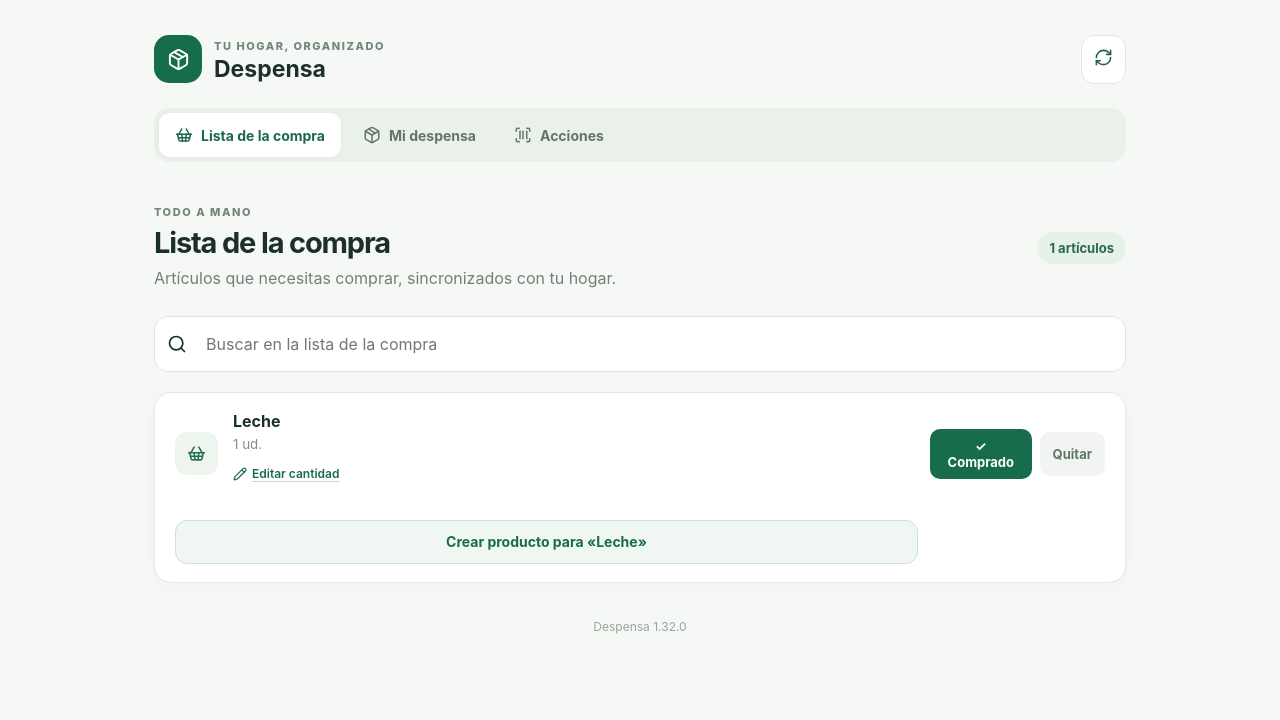
it: keeps creation in the pantry and removes archived-product actions
What coordinates should you click on to do the following:
click the button "Mi despensa"
I would click on:
 (420, 135)
Its box is [347,113,492,157].
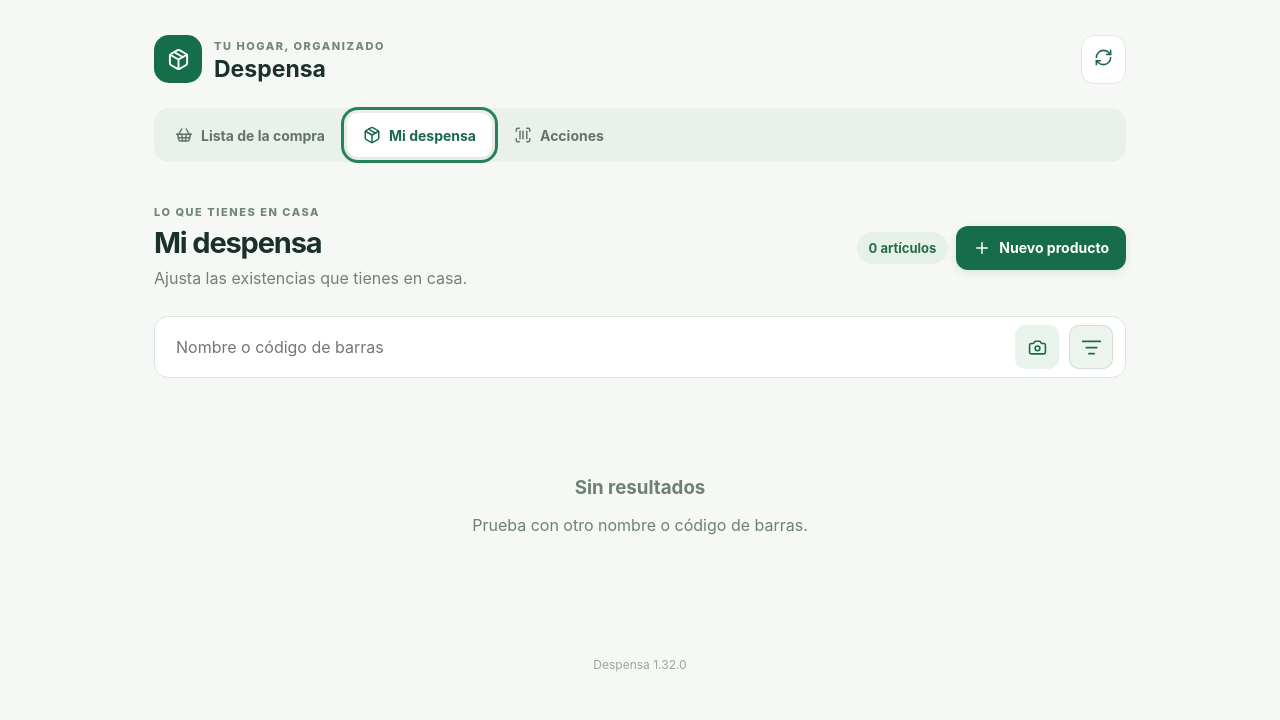
Expected: the button "Nuevo producto" is shown, [956,226,1126,270]
What coordinates should you click on to do the following:
click the button "Acciones"
I would click on:
 (559, 135)
Its box is [498,113,620,157].
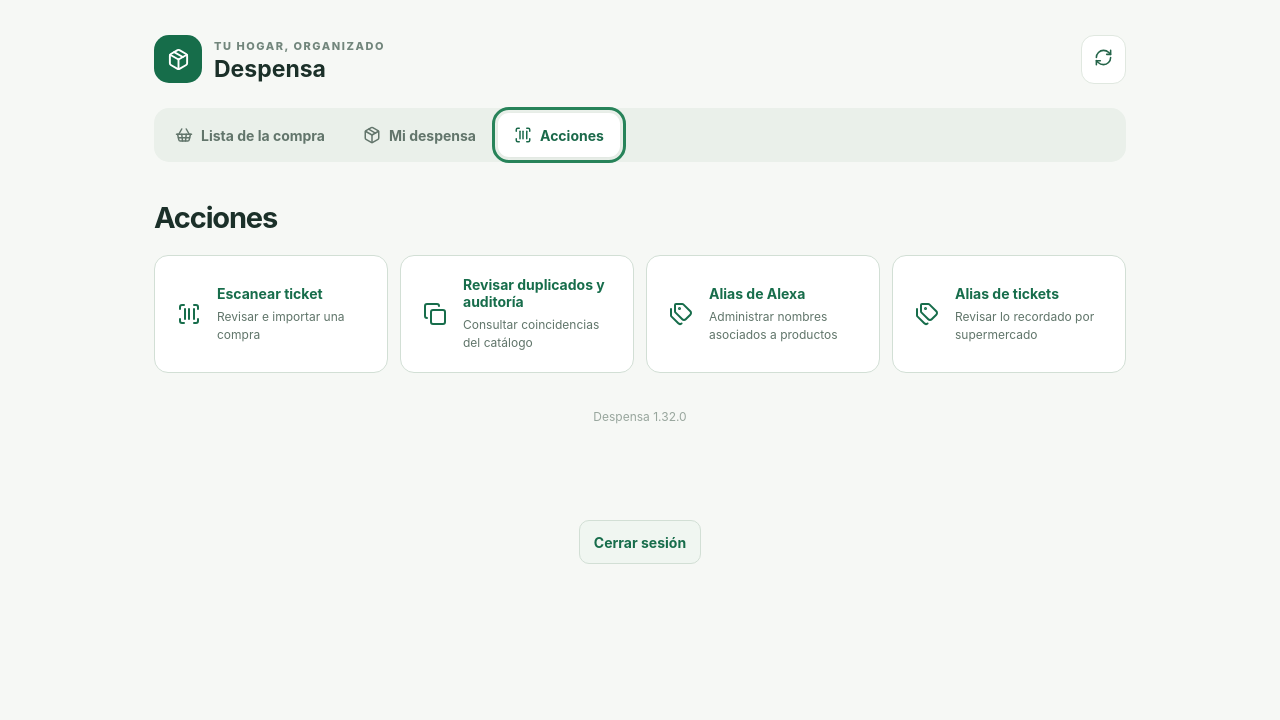
Expected: the button "Nuevo producto" is gone
Expected: the button with aria-label "Administrar alias de Alexa" is shown, [646,255,880,373]
What coordinates should you click on to do the following:
click the button "Mi despensa"
I would click on:
 (420, 135)
Its box is [347,113,492,157].
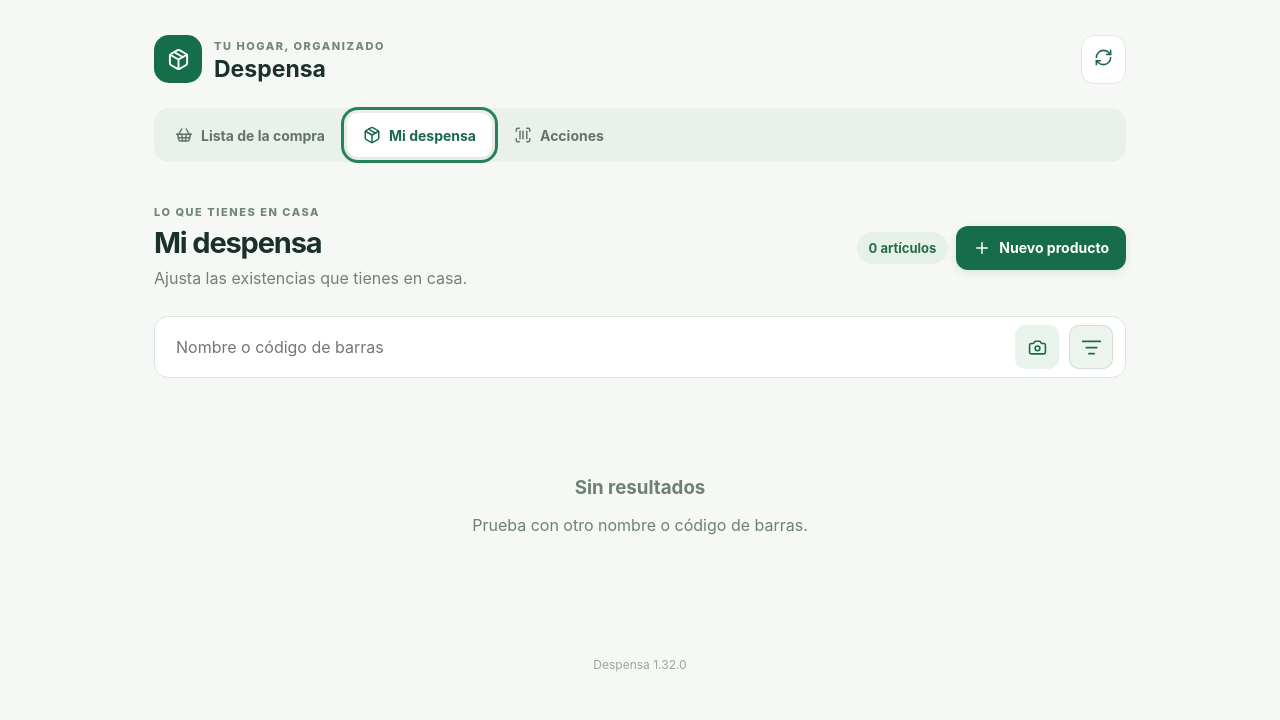
Expected: the heading "Mi despensa" is shown, [154,225,322,260]
Expected: the button "Nuevo producto" is shown, [956,226,1126,270]
